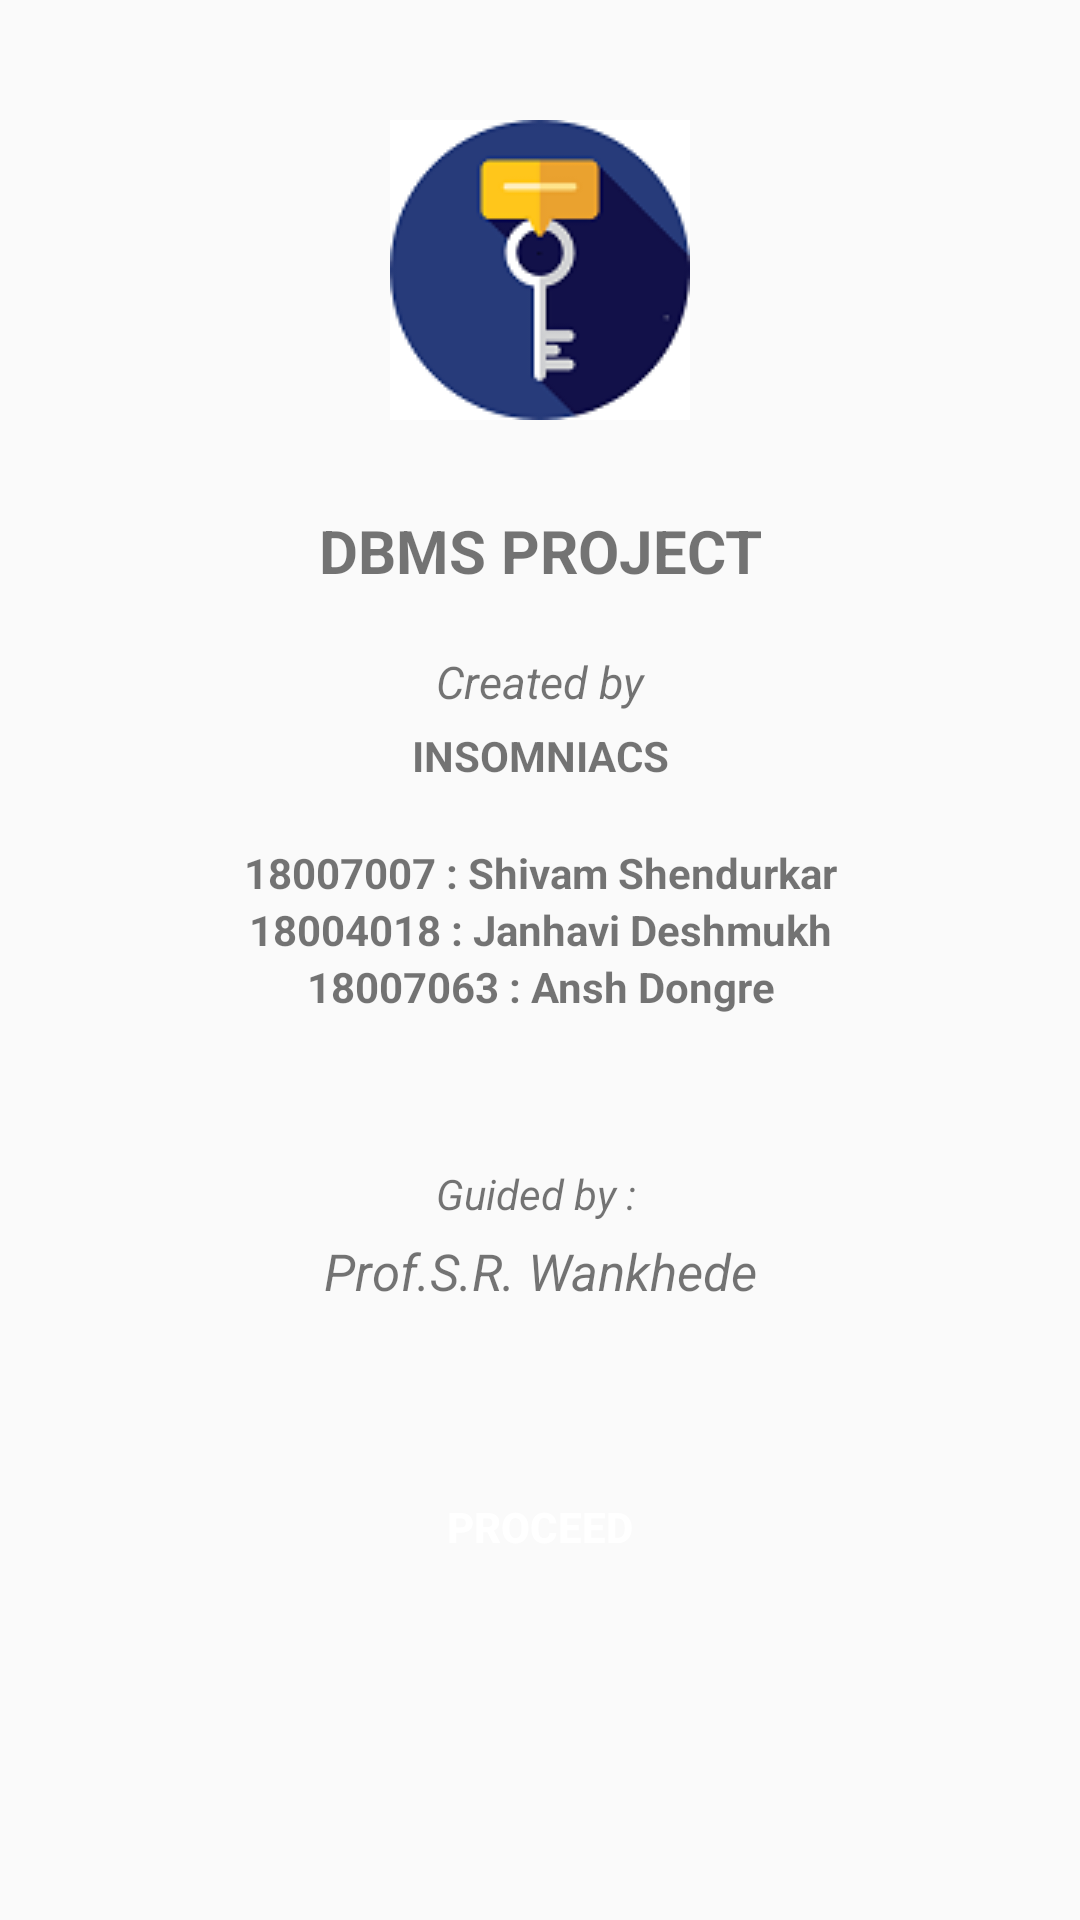

Screen size 1080×1920. Icon name, then its center in pixels as (x=x, y=y):
pass: (x=540, y=270)
